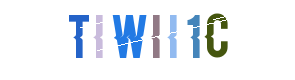1: (144, 0, 224, 80)
C: (175, 0, 255, 80)
I: (83, 0, 163, 80), (119, 0, 199, 80), (128, 0, 208, 80)
T: (74, 0, 154, 80)
W: (107, 0, 187, 80)
